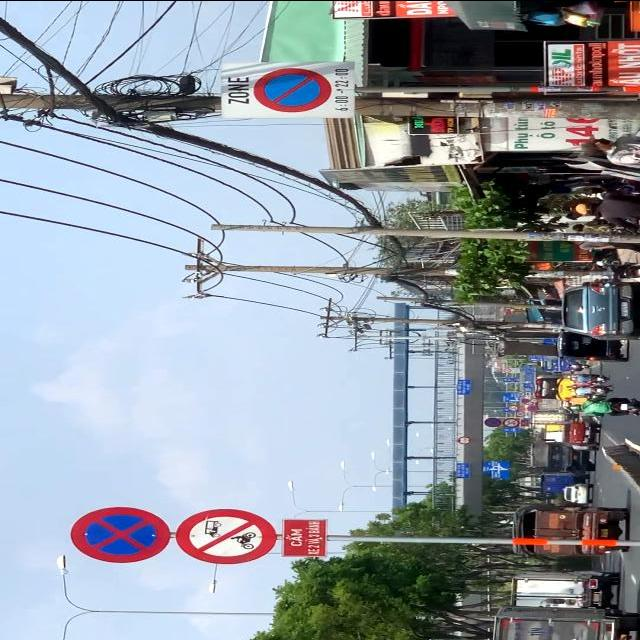P-104: (175, 509, 275, 564)
P-130: (69, 507, 168, 561)
P-131a: (254, 67, 332, 111)
